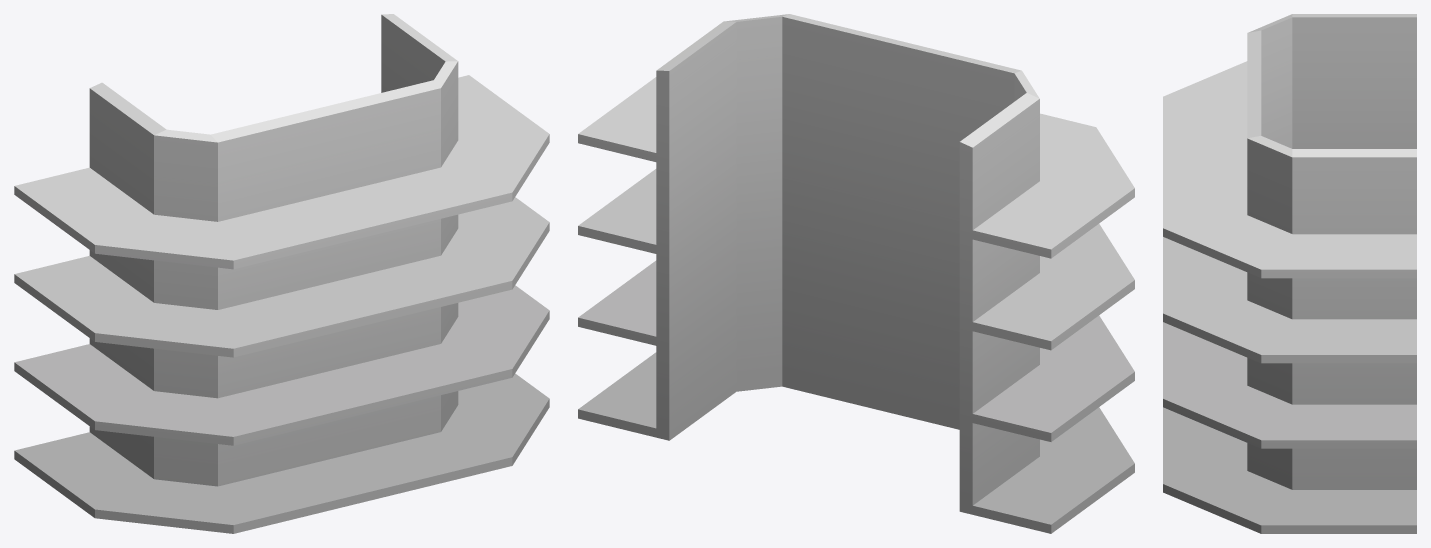
File: case_corner.fbx
3 views of the same model, side by side, from view 1: azimuth 30°, elevation 25°; view 2: azimuth 150°, elevation 25°; view 3: azimuth 270°, elevation 25° (orthographic). The views are drawn at different scales.
Visible parts, largest first — view 1: case_corner; view 2: case_corner; view 3: case_corner.
Boxes of the visible parts, x1=… form: case_corner: x1=14, y1=14, x2=549, y2=533; case_corner: x1=578, y1=14, x2=1134, y2=533; case_corner: x1=1163, y1=14, x2=1416, y2=533.
Bounding box in the file's own units: 1630 × 1218 × 815.
